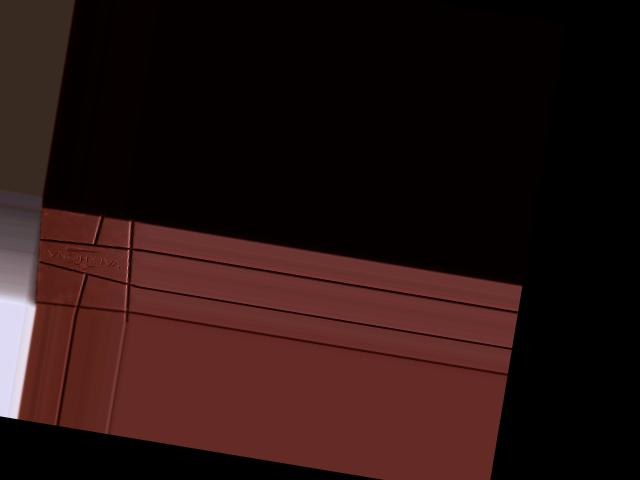chocolate: (23, 200, 150, 323)
